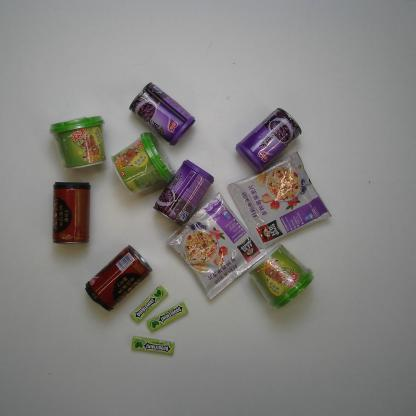Canned Food: (234, 107, 303, 174), (82, 245, 150, 311), (128, 80, 196, 146), (154, 159, 215, 221), (48, 179, 91, 245)
Gum: (129, 284, 169, 323), (146, 301, 189, 332), (130, 335, 175, 356)
Instant Drink: (162, 190, 268, 302), (226, 156, 332, 246), (250, 243, 317, 308), (112, 129, 171, 200), (50, 114, 107, 171)
